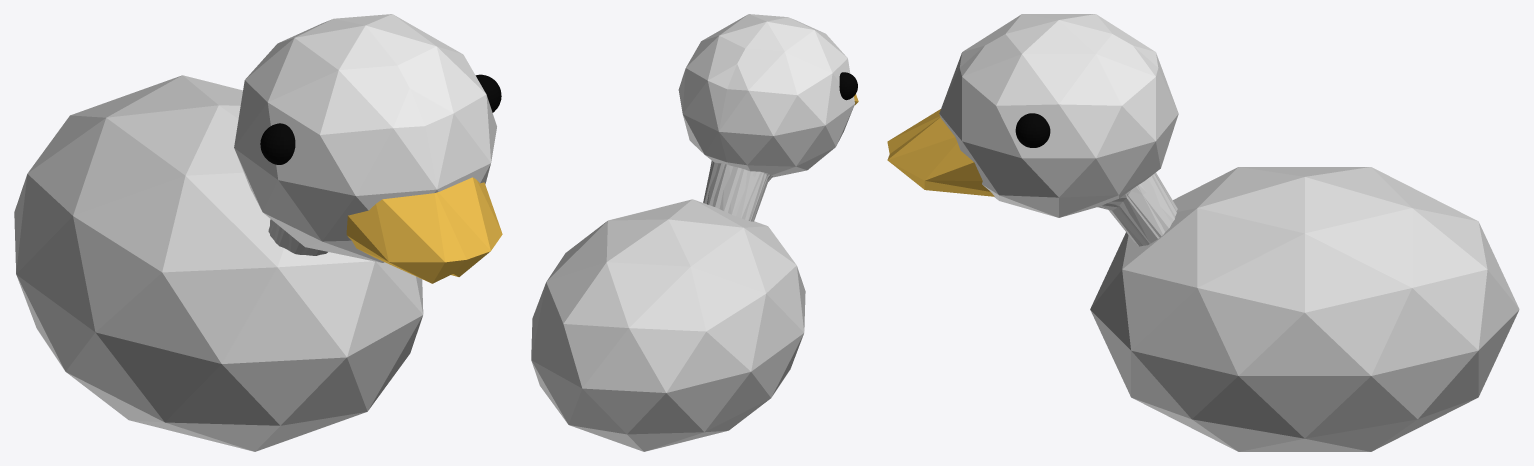
The model's file is duck.fbx.
3 renders of one model, left to right at view 1: azimuth 30°, elevation 25°; view 2: azimuth 150°, elevation 25°; view 3: azimuth 270°, elevation 25°, orthographic. The views are drawn at different scales.
Parts seen in each view (by area): view 1: Icosphere.002, Icosphere, Icosphere.001, Sphere, Cylinder; view 2: Icosphere.002, Icosphere, Cylinder, Sphere; view 3: Icosphere.002, Icosphere, Icosphere.001, Cylinder, Sphere.
Boxes of the visible parts, <box> form: Icosphere.002: <box>14,75,423,451</box>; Icosphere: <box>234,14,496,262</box>; Icosphere.001: <box>346,177,502,283</box>; Sphere: <box>260,74,501,164</box>; Cylinder: <box>268,219,327,255</box>; Icosphere.002: <box>531,199,805,451</box>; Icosphere: <box>678,14,854,177</box>; Cylinder: <box>703,160,772,221</box>; Sphere: <box>839,72,857,100</box>; Icosphere.002: <box>1090,167,1519,451</box>; Icosphere: <box>939,14,1178,217</box>; Icosphere.001: <box>887,109,994,196</box>; Cylinder: <box>1097,172,1177,246</box>; Sphere: <box>1015,113,1050,147</box>.
Bounding box in the file's own units: 186 × 275 × 373.
